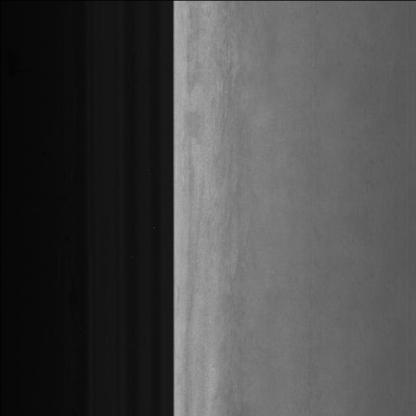silk_spot: (213, 96, 254, 381)
